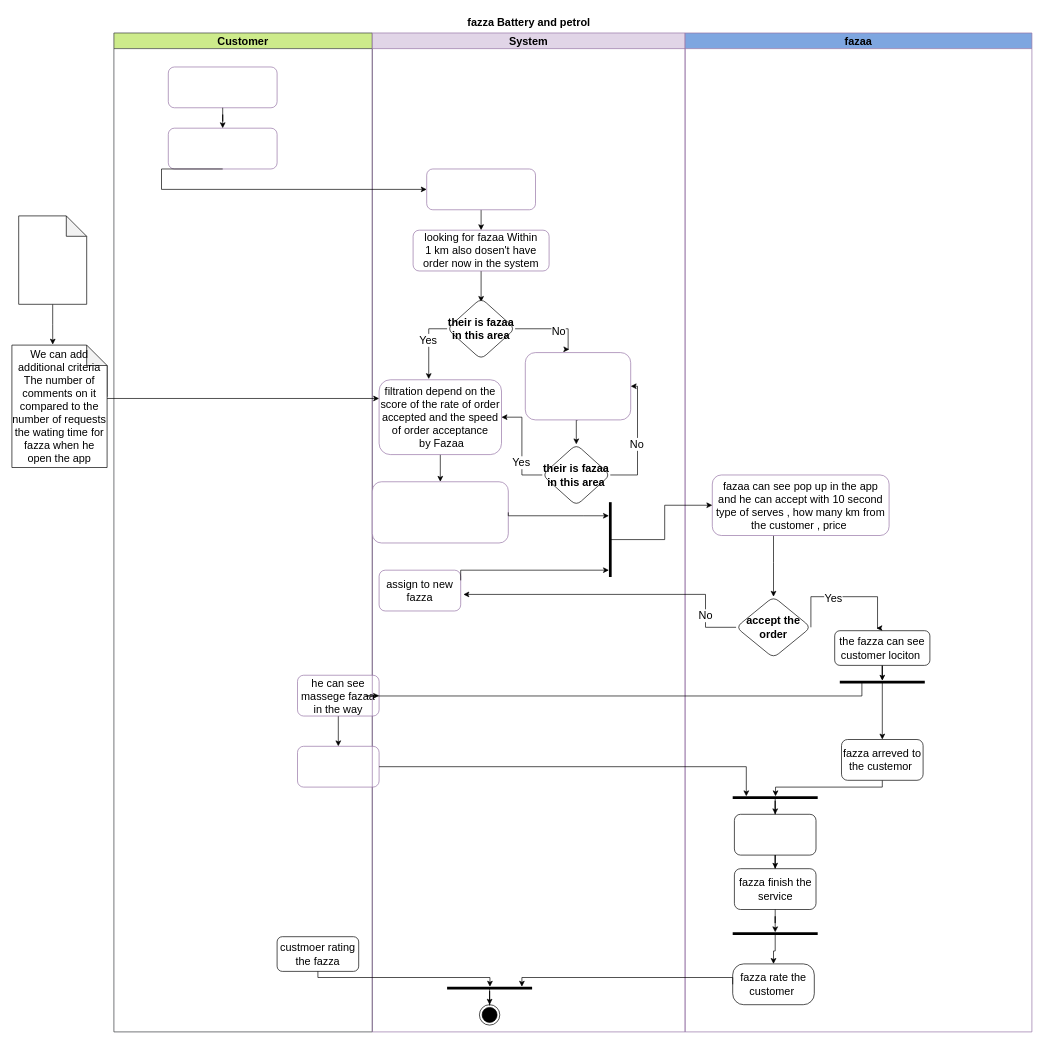
Image size: 1044x1044. Some labels were removed from this diagram. The centre of each missing label's shape, as x and y in pixels:
"assign to fazaa by the criteria acceptance order rate , acceptance speed rate" goes at (x=440, y=512).
"create new order in the system" goes at (x=481, y=189).
"custmor has problem in his car" goes at (x=222, y=87).
"fazza do the service" goes at (x=775, y=834).
"looking for fazaa bigger then 1km also dosen't have order now in the system" goes at (x=578, y=386).
"make the pyment" goes at (x=338, y=766).
"Making an order for the Service he needs" goes at (x=222, y=148).
"we add in admin side a new page which is notes in all fazza" goes at (x=52, y=259).
